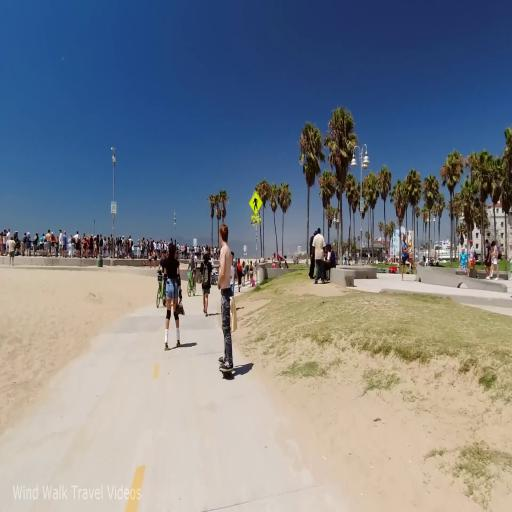Street_Light: (350, 135, 371, 268), (107, 139, 121, 264)
